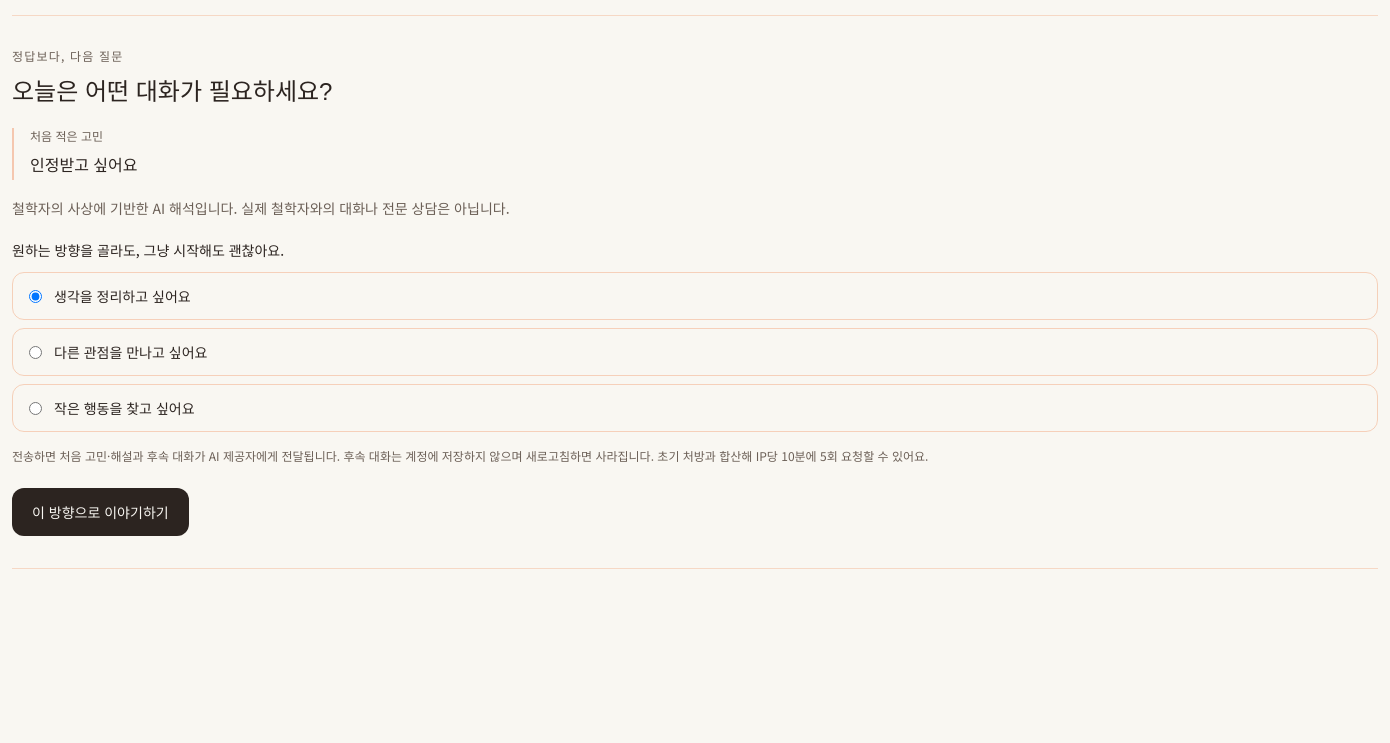
Scenario: PhilosophyDialogue › offers a goal and optional experiment without sending or overwriting a draft
The image size is (1390, 743).
Click the radio button labelled "다른 관점을 만나고 싶어요" at (36, 352), box [29,346,42,358]
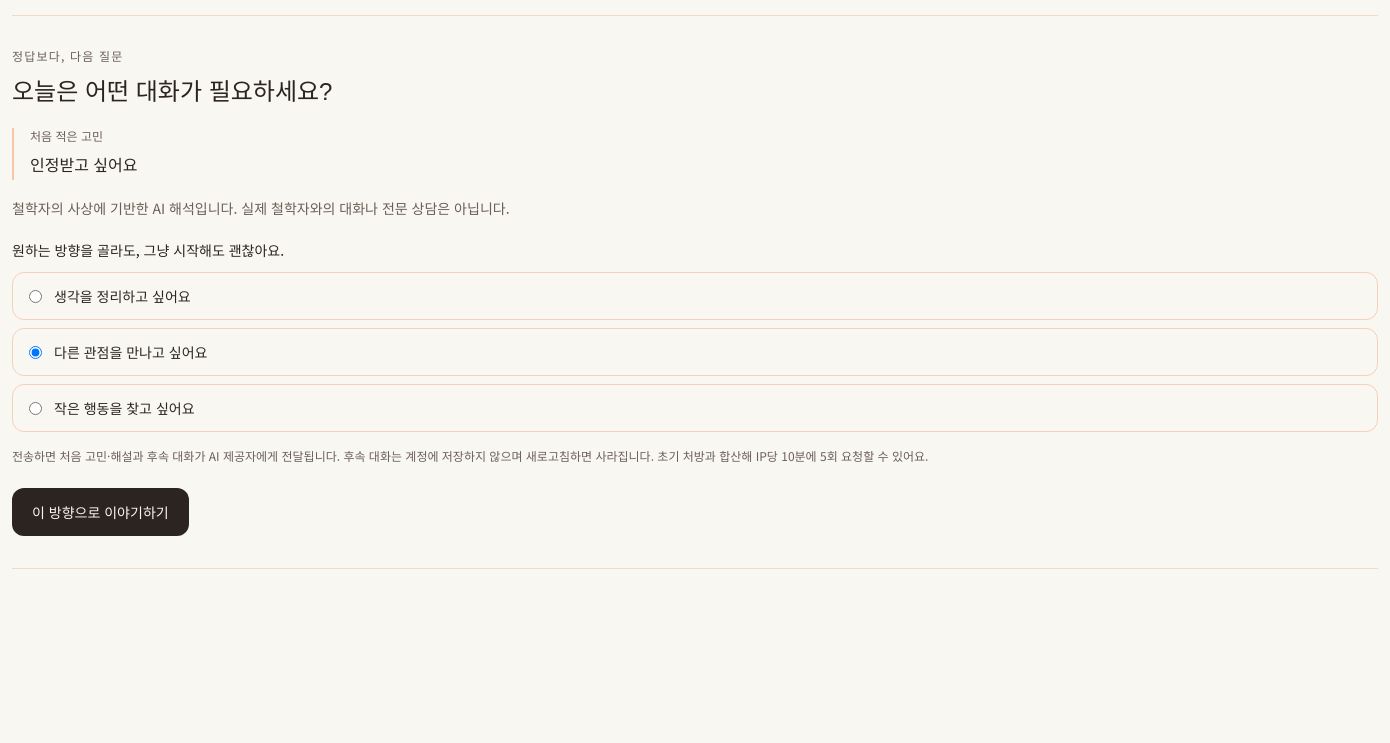
Click the button "이 방향으로 이야기하기" at (100, 512), box [12,488,189,536]
(page scrolled)
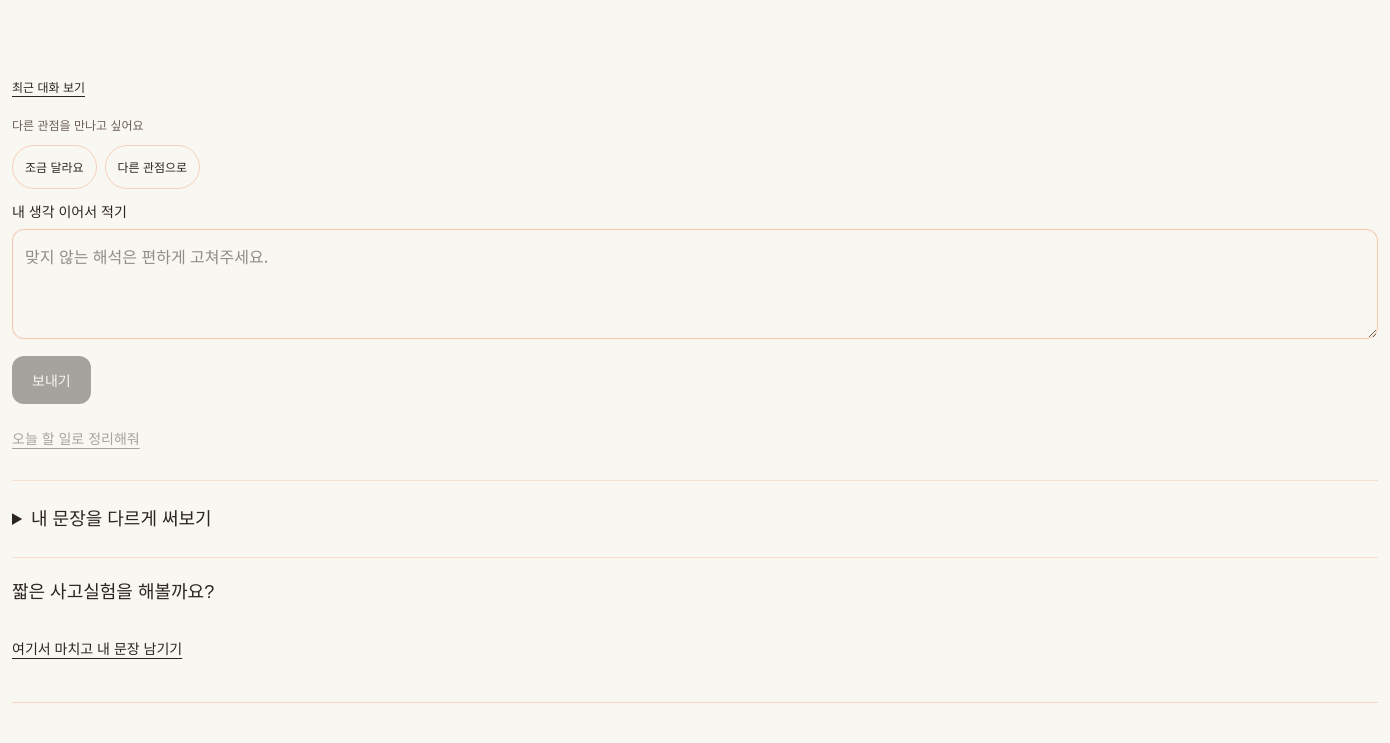
Click the button "짧은 사고실험을 해볼까요?" at (113, 592), box [12,570,214,614]
(page scrolled)
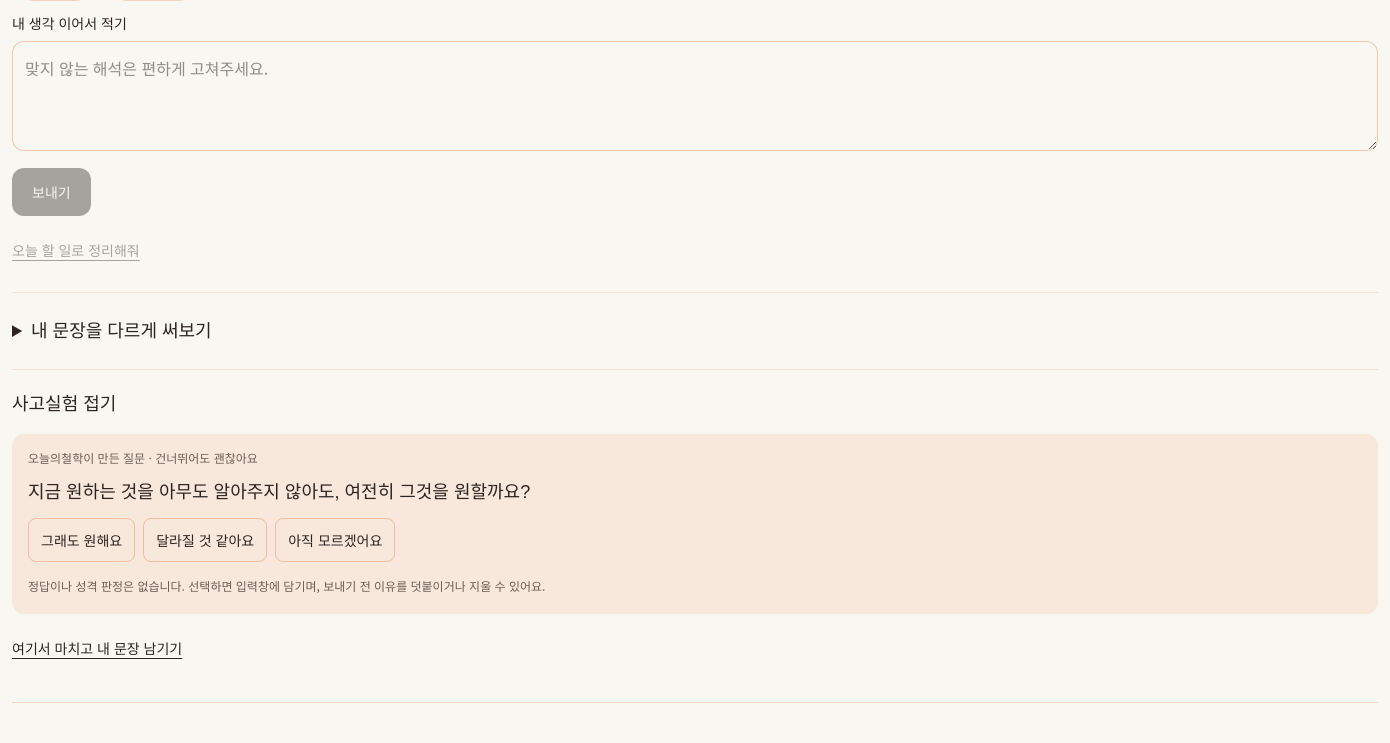
Click the button "아직 모르겠어요" at (335, 540), box [275,518,395,562]
(page scrolled)
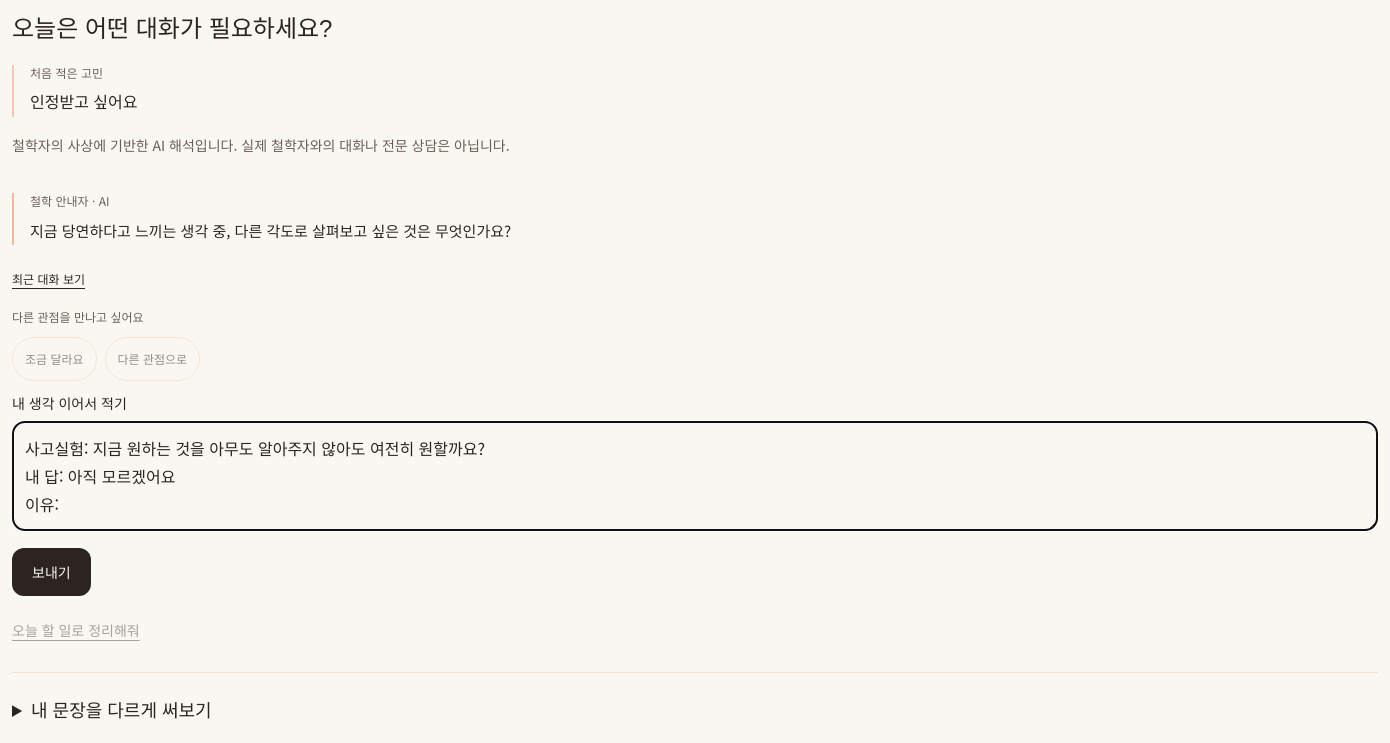
Expected: the button "조금 달라요" is disabled, [12,337,97,381]
